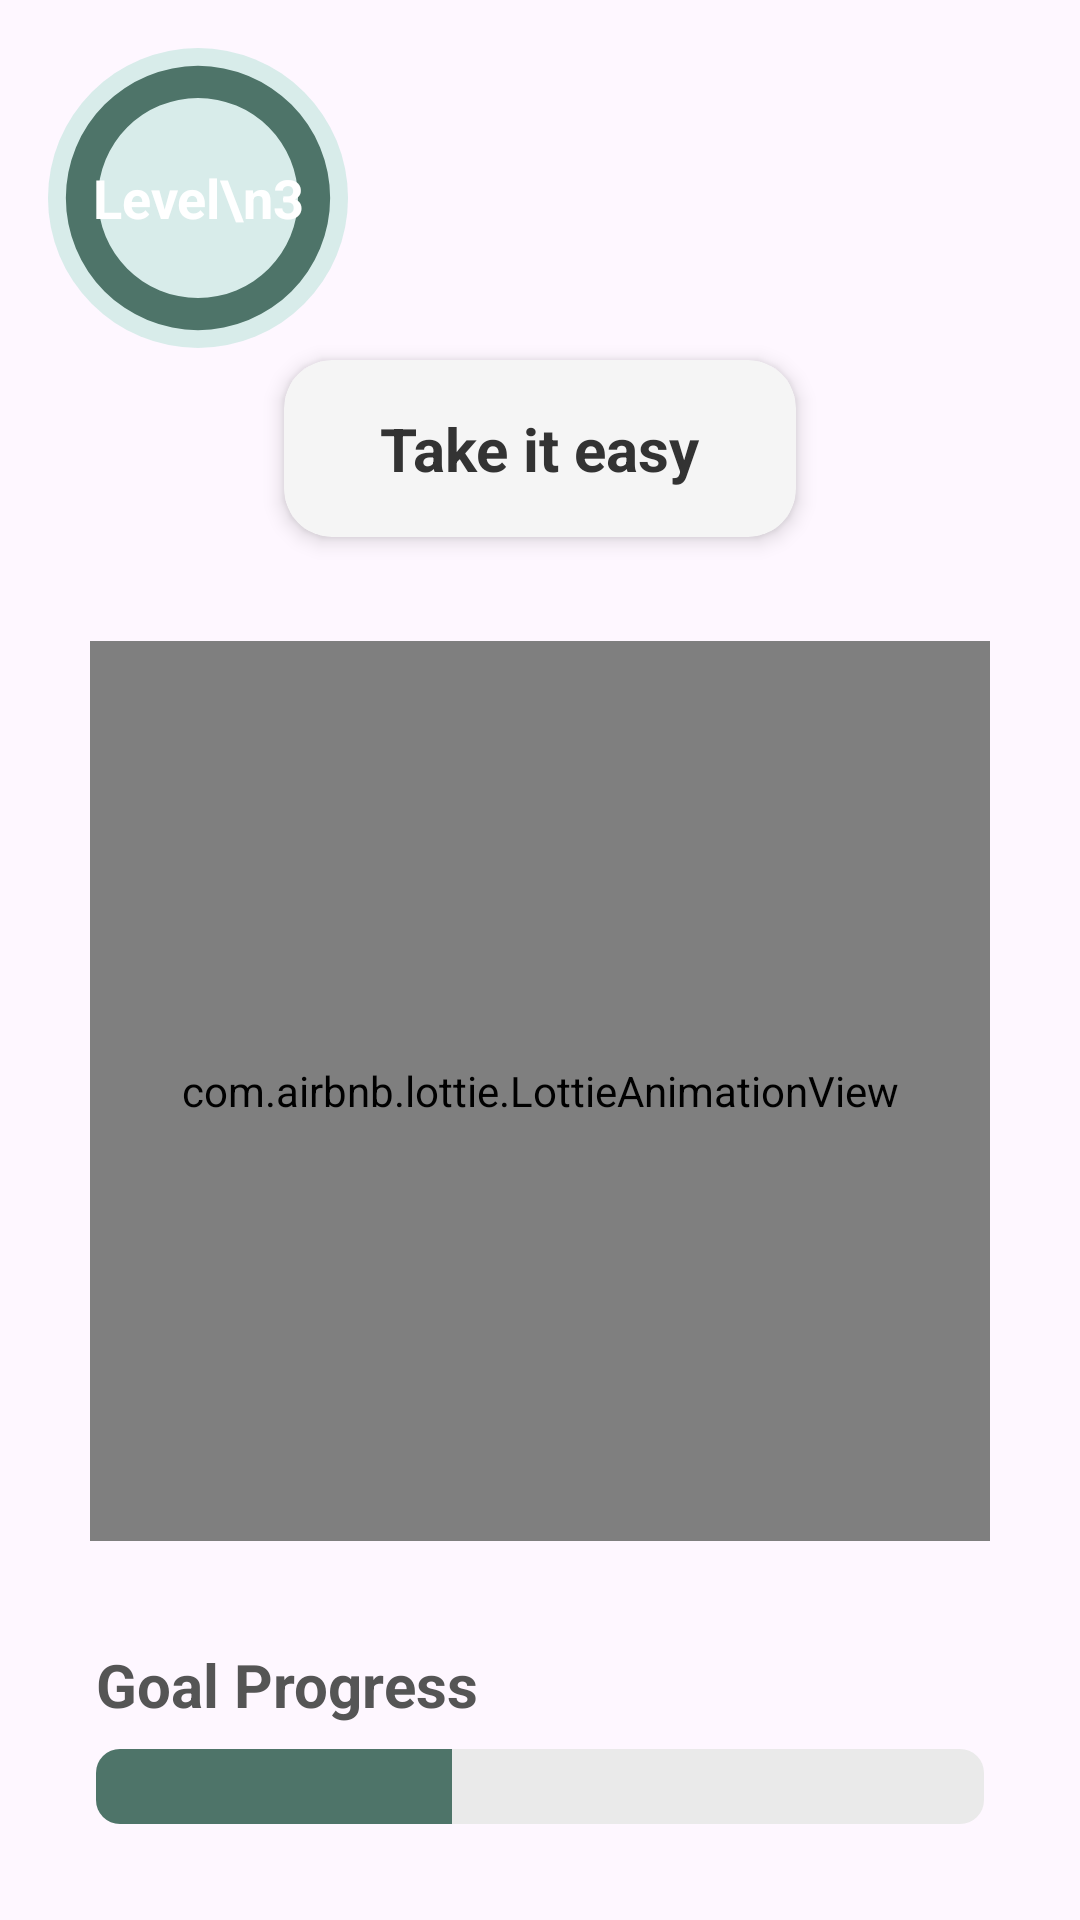

Icons on this 1080×1920 Android screen, each with the point to tap as [x,y]:
circle progress: [198,198]
